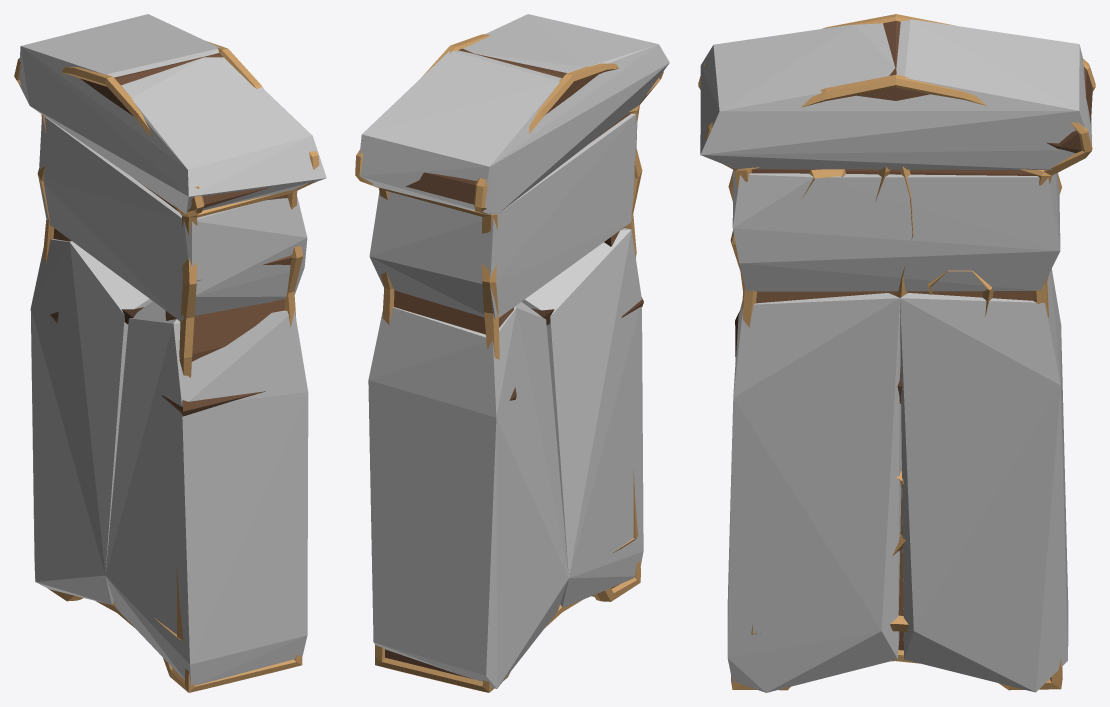
The model's file is SM_Prop_Cabinet_02.fbx.
The picture shows the model from 3 angles, left to right: view 1: azimuth 30°, elevation 25°; view 2: azimuth 150°, elevation 25°; view 3: azimuth 270°, elevation 25°; orthographic projection. The views are drawn at different scales.
Visible parts, largest first — view 1: SM_Prop_Cabinet_02_ConvexHulls, SM_Prop_Cabinet_02; view 2: SM_Prop_Cabinet_02_ConvexHulls, SM_Prop_Cabinet_02; view 3: SM_Prop_Cabinet_02_ConvexHulls, SM_Prop_Cabinet_02.
Part boxes in pixels (x1,y1,x2,y2): SM_Prop_Cabinet_02_ConvexHulls: (19,14,326,686); SM_Prop_Cabinet_02: (14,41,319,692); SM_Prop_Cabinet_02_ConvexHulls: (360,14,669,688); SM_Prop_Cabinet_02: (355,34,663,692); SM_Prop_Cabinet_02_ConvexHulls: (700,19,1091,692); SM_Prop_Cabinet_02: (698,14,1095,690).
Bounding box in the file's own units: 56.77 × 130 × 222.
Materials: 2 (1 with a texture image).
